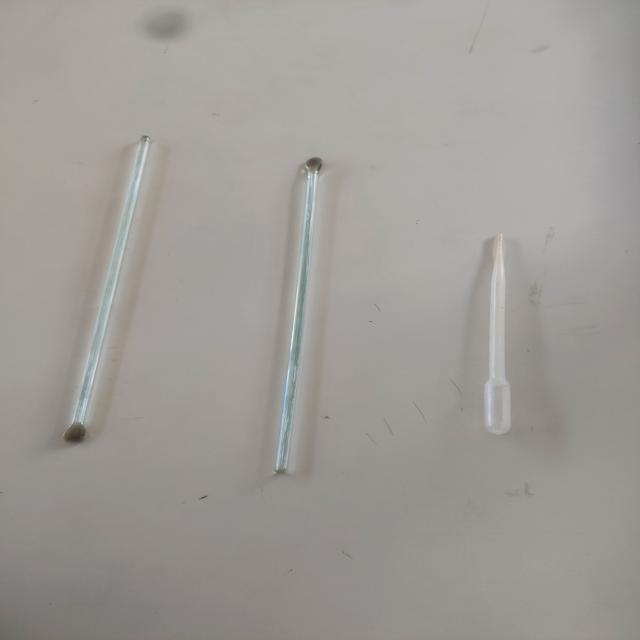Glass_Rod: (34, 110, 178, 457), (254, 138, 354, 488)
Pipette: (463, 194, 560, 467)
